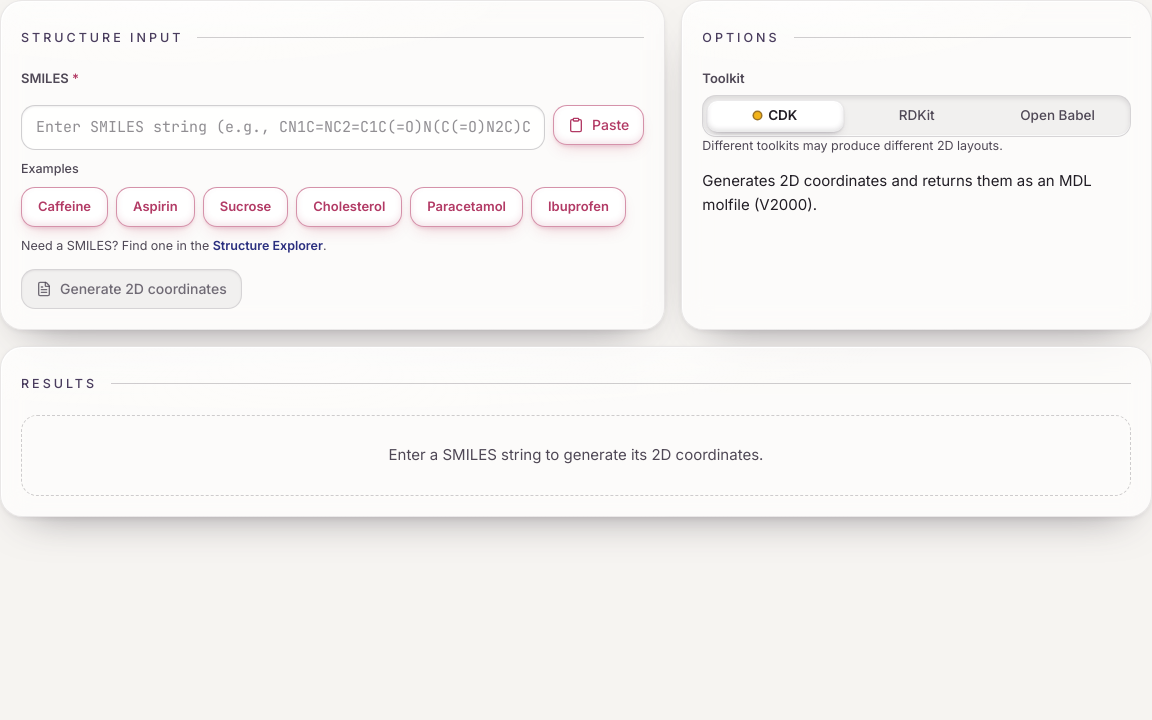
Test: Mol2DView (bento) › shows the 2D molfile verbatim with copy and download
Click the radio button labelled "RDKit": click(917, 116) [848, 100, 985, 132]
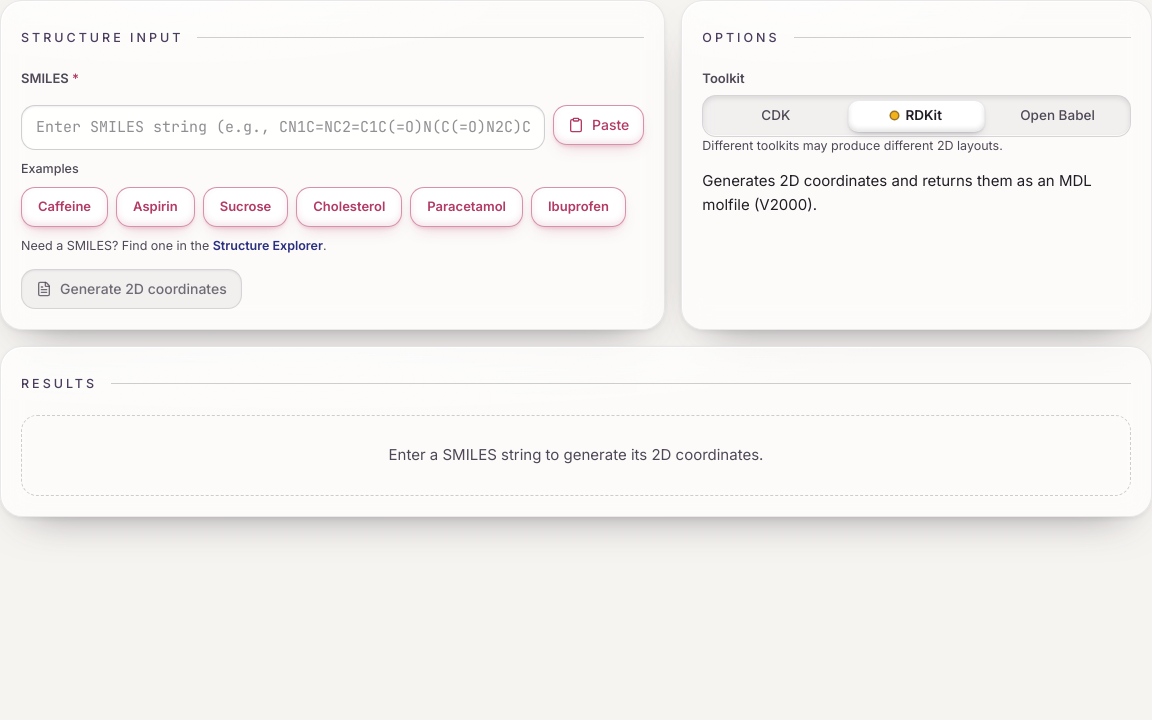
In the field labelled "SMILES *": (283, 127) [21, 104, 545, 150], type "CCO"
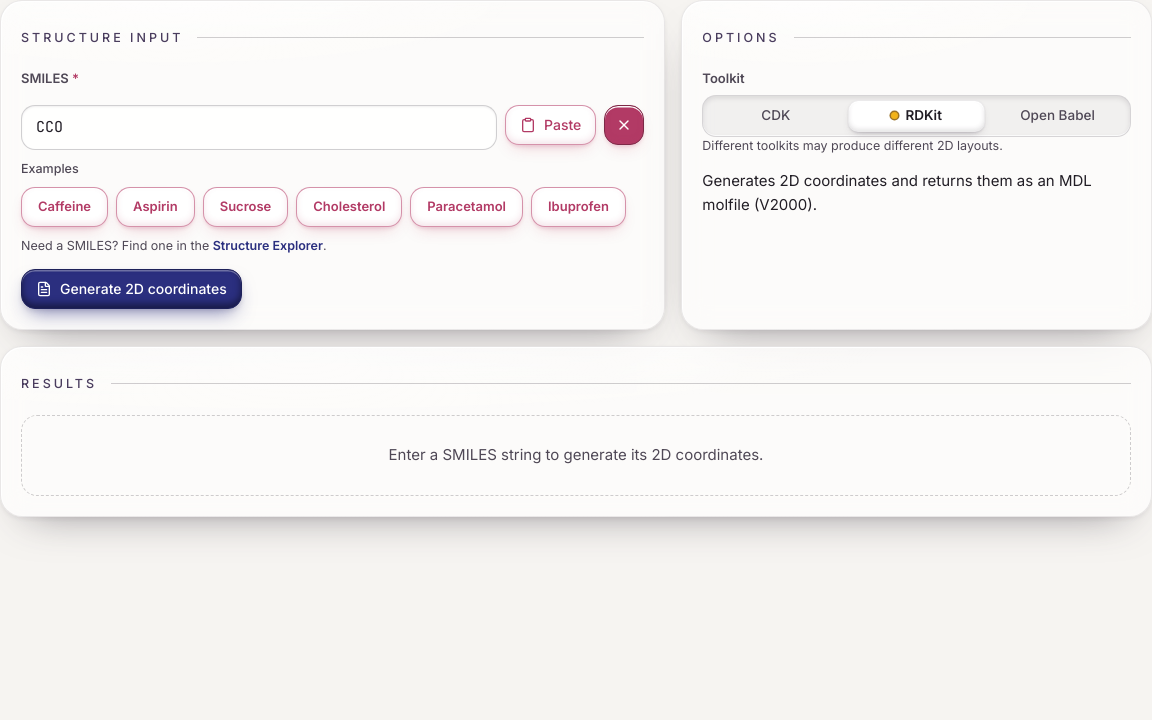
Click the button "Generate 2D coordinates": click(131, 289) [21, 269, 242, 309]
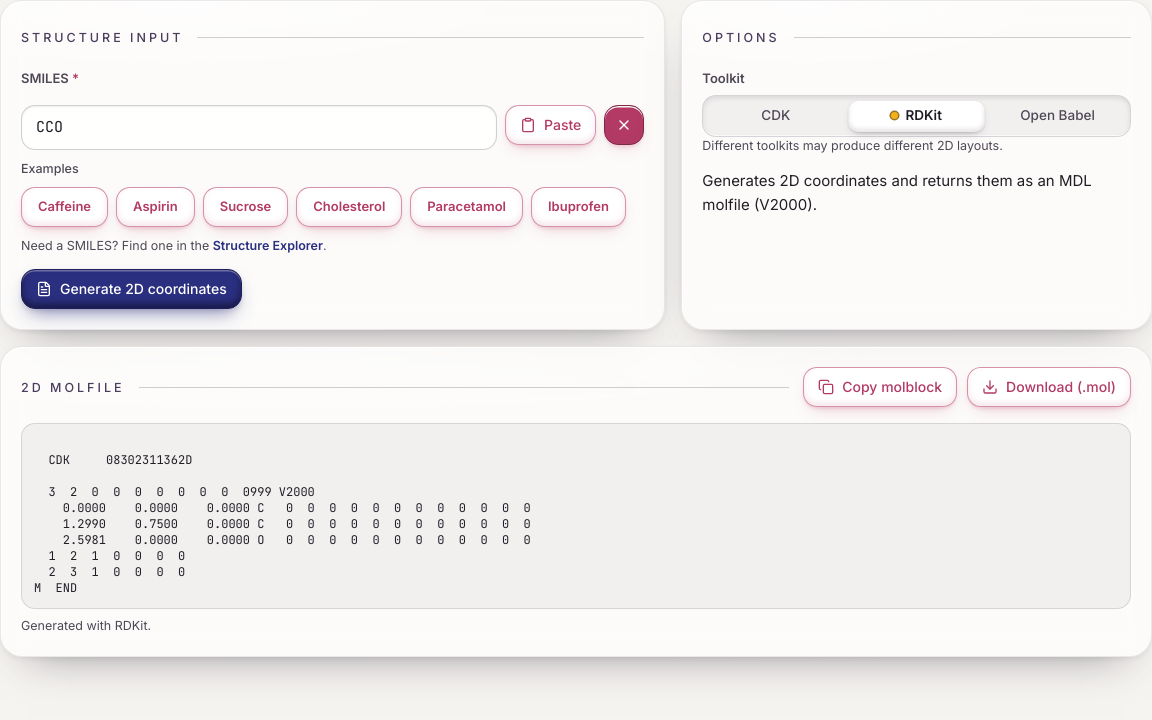
Expected: the button "Copy molblock" is shown, [803, 367, 957, 407]
Expected: the button "Download (.mol)" is shown, [967, 367, 1131, 407]
